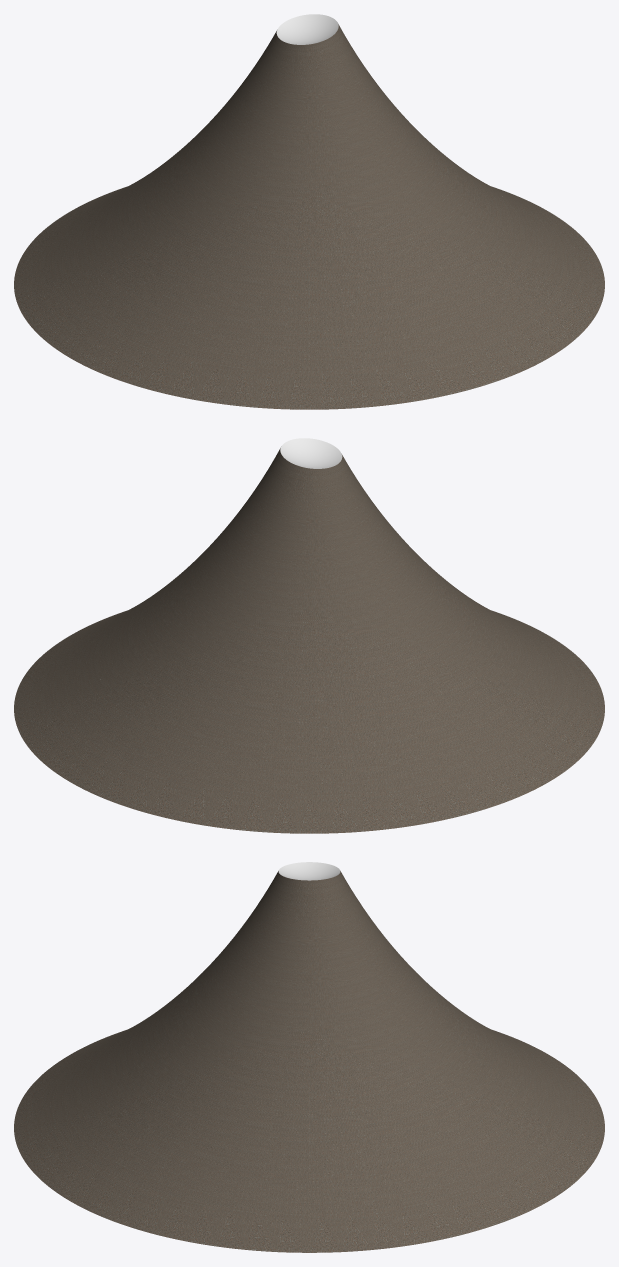
File: volcano.fbx
3 views of the same model, one above another, from view 1: azimuth 30°, elevation 25°; view 2: azimuth 150°, elevation 25°; view 3: azimuth 270°, elevation 25° (orthographic).
Visible parts, largest first — view 1: Volcano; view 2: Volcano; view 3: Volcano.
Boxes of the visible parts, box(x1,y1,x2,y2) form: Volcano: box(14, 14, 604, 409); Volcano: box(14, 438, 604, 833); Volcano: box(14, 862, 604, 1252).
Bounding box in the file's own units: 71996 × 34899 × 71984.
